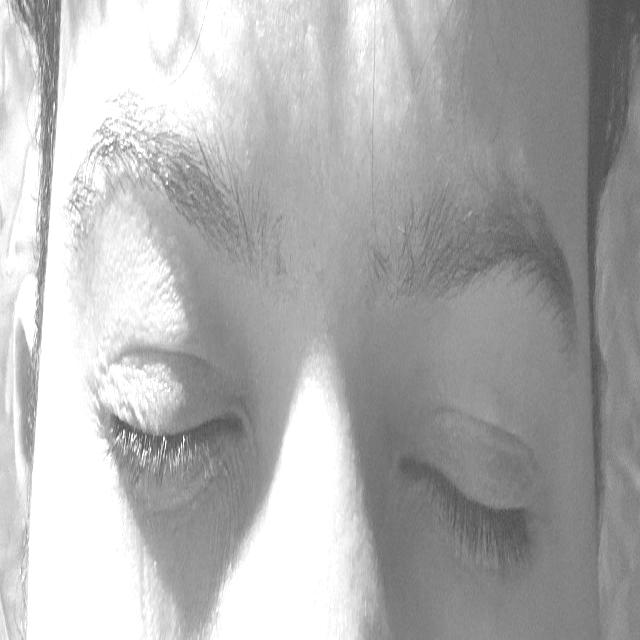real: (80, 166, 562, 630)
